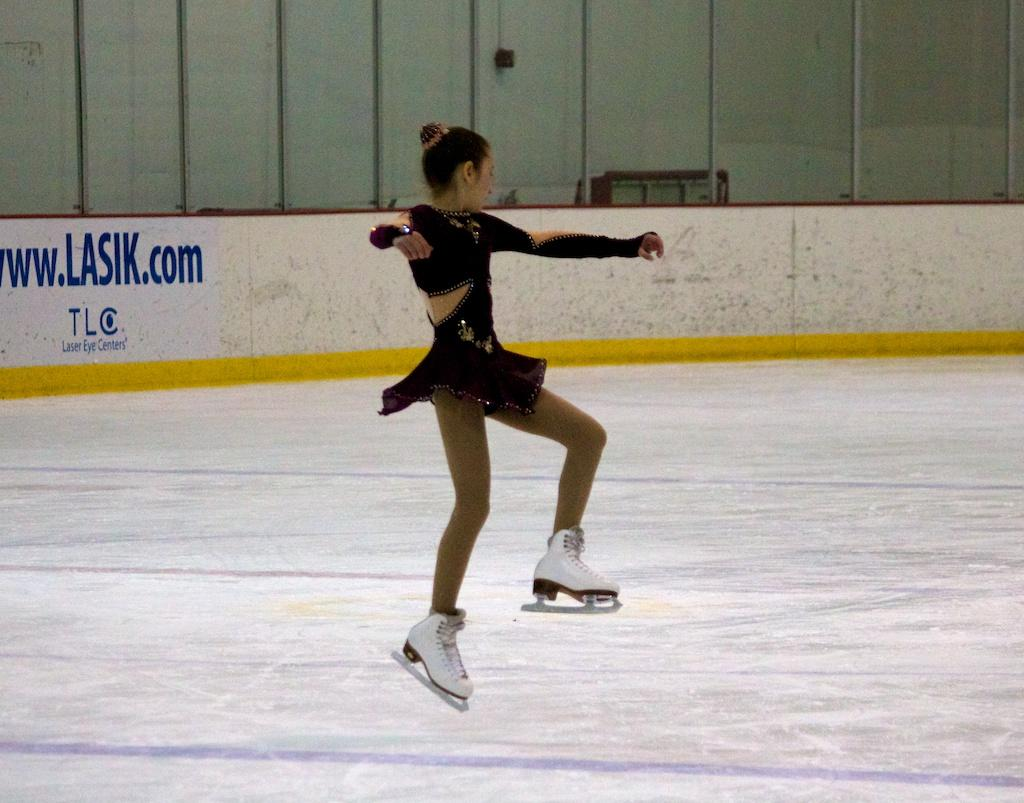face: (464, 144, 493, 210)
